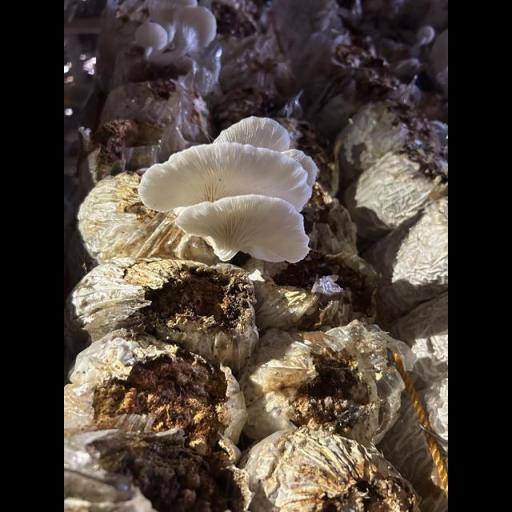White Oyster Mushroom: (132, 110, 321, 264)
